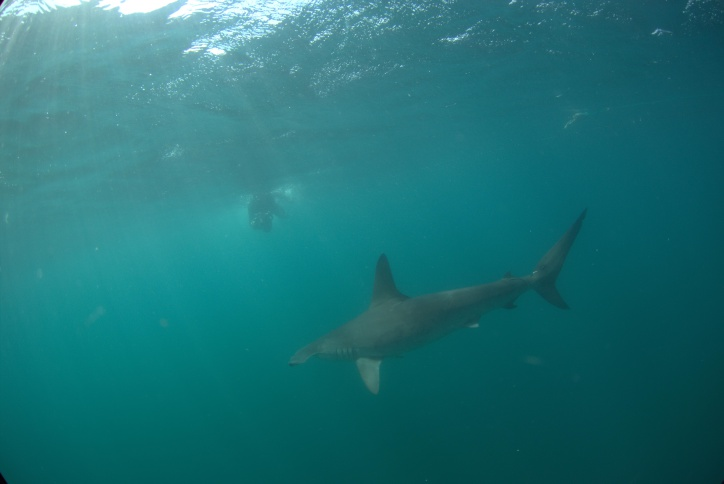Hammer: (283, 199, 620, 411)
